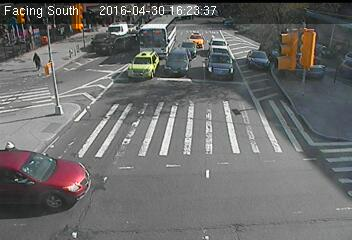neg: (200, 157, 226, 191), (85, 105, 109, 137), (286, 60, 310, 92), (267, 162, 290, 193), (5, 106, 27, 135), (173, 105, 195, 133), (144, 61, 165, 90), (326, 48, 347, 76), (46, 134, 67, 161), (228, 107, 248, 134), (311, 115, 330, 141), (145, 149, 163, 173), (257, 71, 275, 95), (109, 45, 126, 68), (199, 46, 214, 66), (252, 37, 262, 51)
pos: (29, 48, 46, 71)
